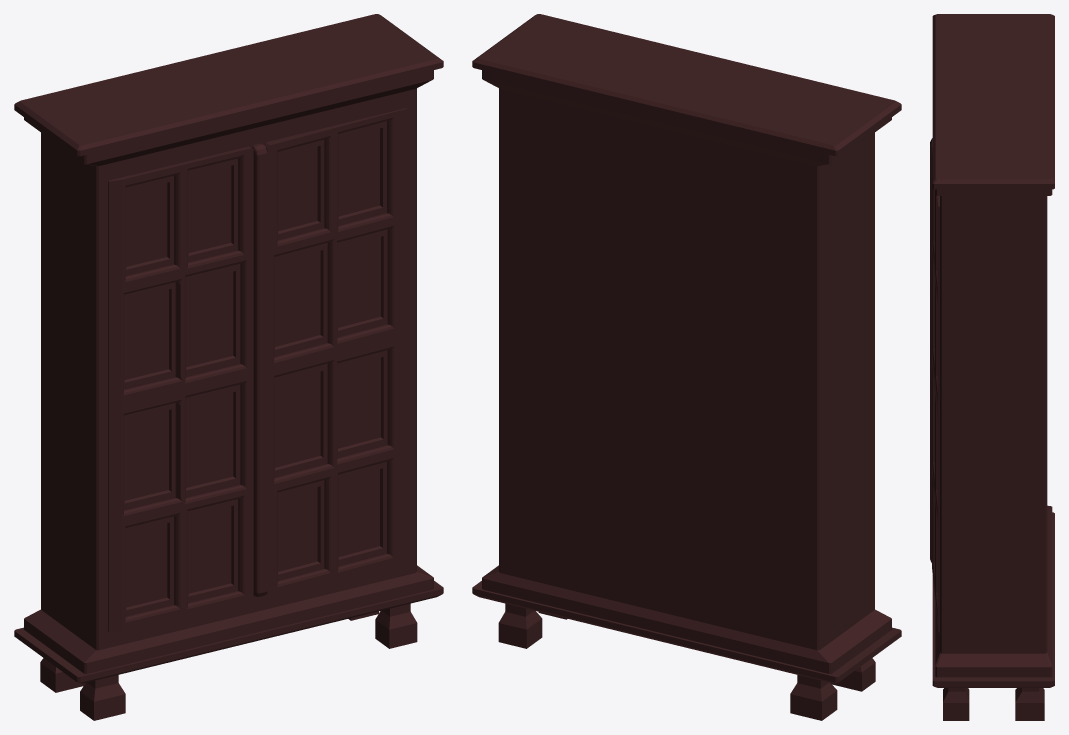
File: Tudorwardrobe.fbx
The picture shows the model from 3 angles, left to right: view 1: azimuth 30°, elevation 25°; view 2: azimuth 150°, elevation 25°; view 3: azimuth 270°, elevation 25°; orthographic projection. The views are drawn at different scales.
Visible parts, largest first — view 1: Tudorwardrobe; view 2: Tudorwardrobe; view 3: Tudorwardrobe.
Boxes of the visible parts, x1,y1,x2,y2 form: Tudorwardrobe: (14, 14, 443, 720); Tudorwardrobe: (472, 14, 901, 720); Tudorwardrobe: (930, 14, 1054, 720).
Size of the model in its own units: 182 by 276 by 56.82.
